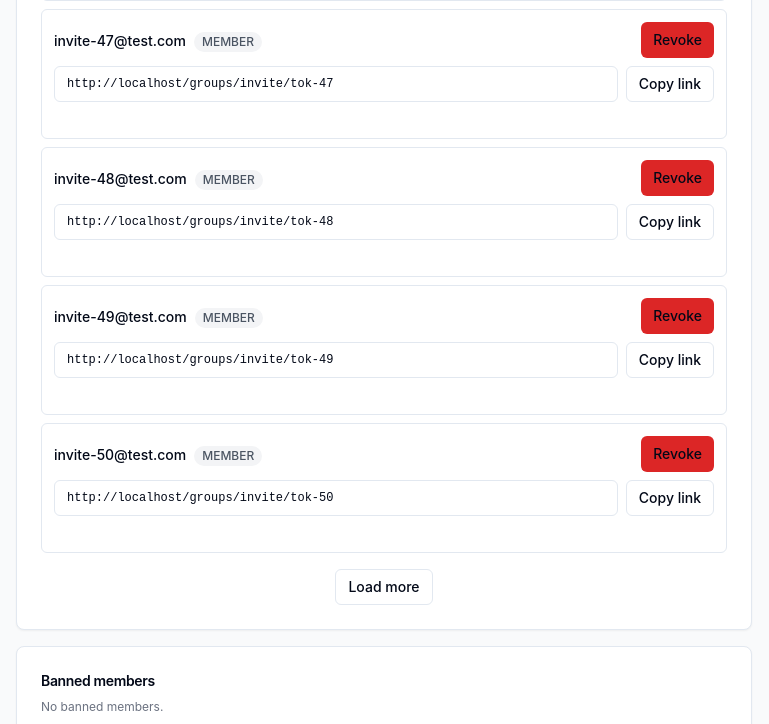
Test: GroupDetailPage › pending invite pagination › appends the second page instead of replacing page 1
(page scrolled)
Click the button "Load more" at (384, 587), box [335,569,432,605]
(page scrolled)
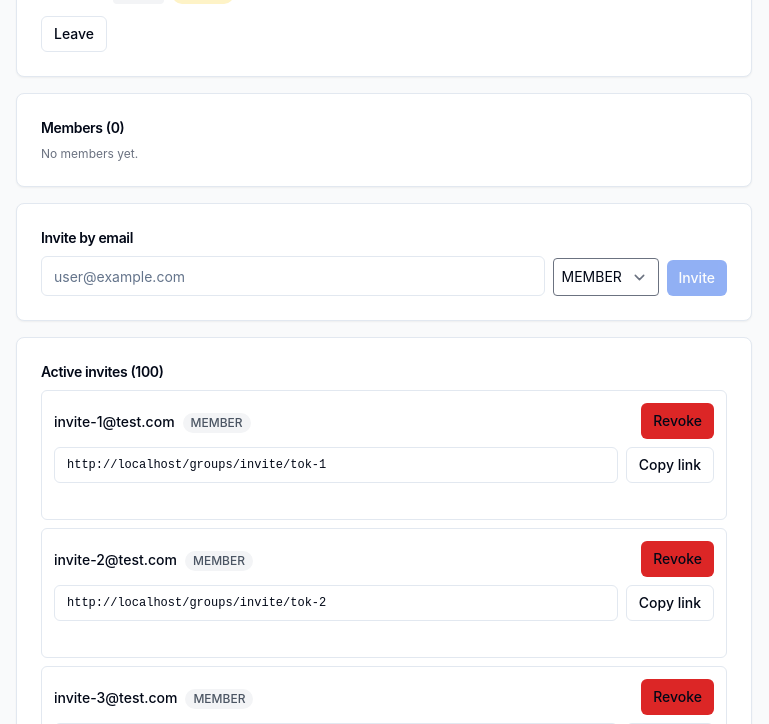
Expected: the text "invite-1@test.com" is shown, [54,413,175,430]
Expected: the heading "Active invites (100)" is shown, [41,363,164,380]
